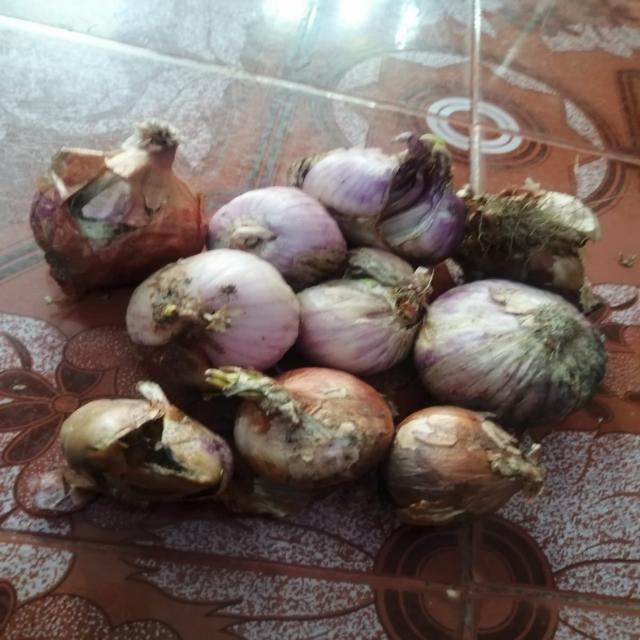rotten: (110, 422, 202, 488), (52, 193, 135, 264), (400, 444, 490, 500), (397, 162, 436, 239), (551, 351, 600, 404), (131, 334, 194, 366), (333, 266, 406, 286)
sprouting: (204, 372, 278, 404)
